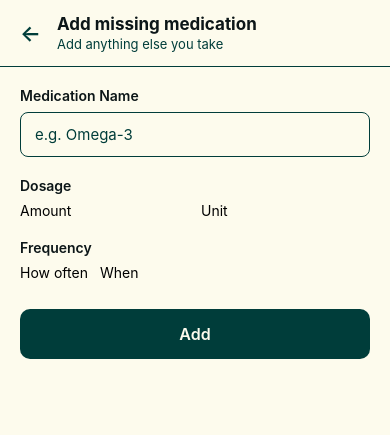
Test: AddMissingMedicationScreen — US 12: Add Missing Medications › shows all three validation errors when all required fields are empty
Click the text "Add" at (195,334), box [179,324,211,344]
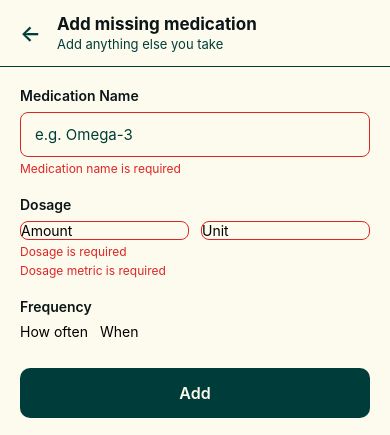
Expected: the text "Medication name is required" is shown, [20,161,181,176]
Expected: the text "Dosage is required" is shown, [20,244,127,259]
Expected: the text "Dosage metric is required" is shown, [20,263,166,278]
